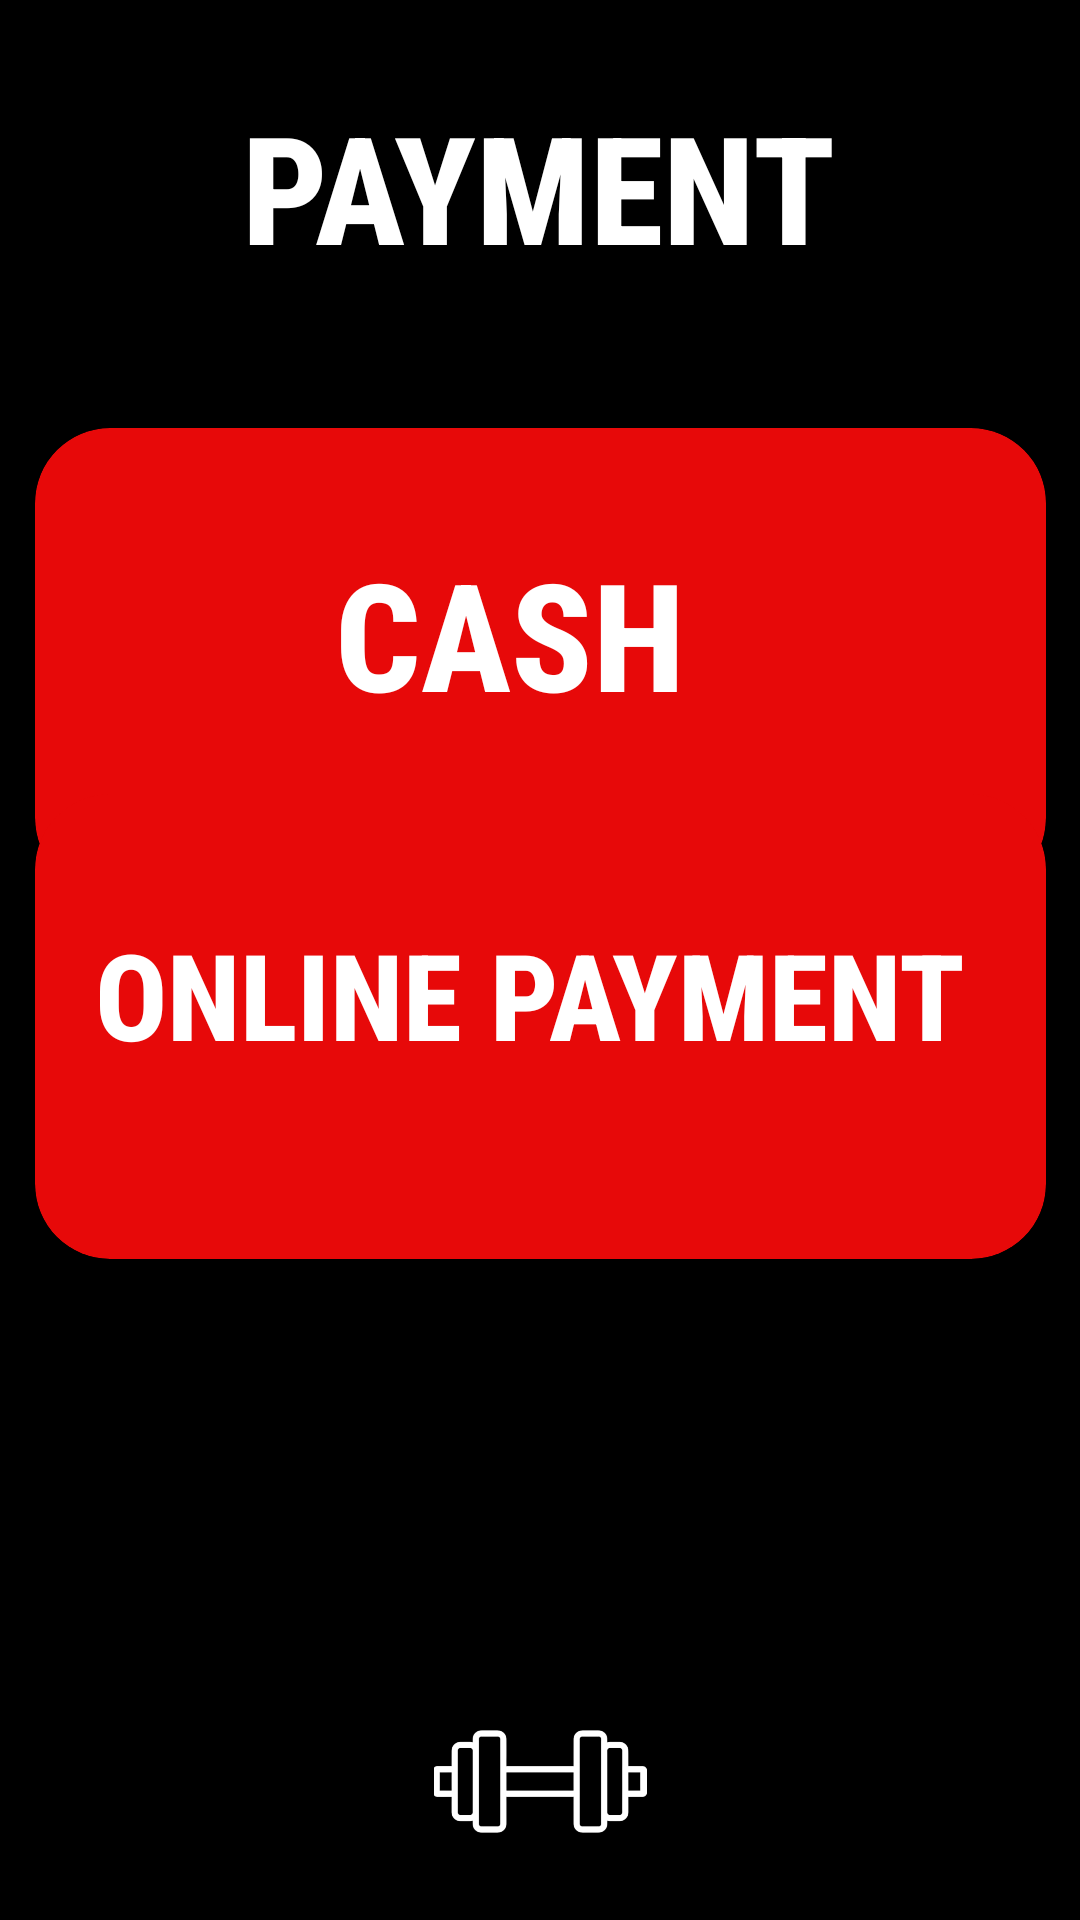

Icon bounding boxes for this 1080 x 1920 phone screenshot, format (left=x1, top=y1, right=x2, bottom=y2):
imgdumbell: (left=434, top=1730, right=647, bottom=1833)
